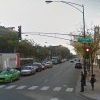crosswalk: (0, 84, 73, 91)
